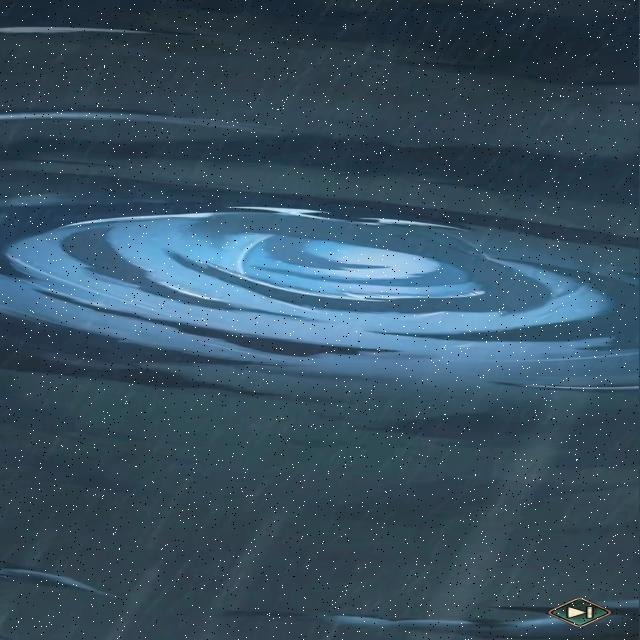system-skip: (546, 596, 612, 628)
